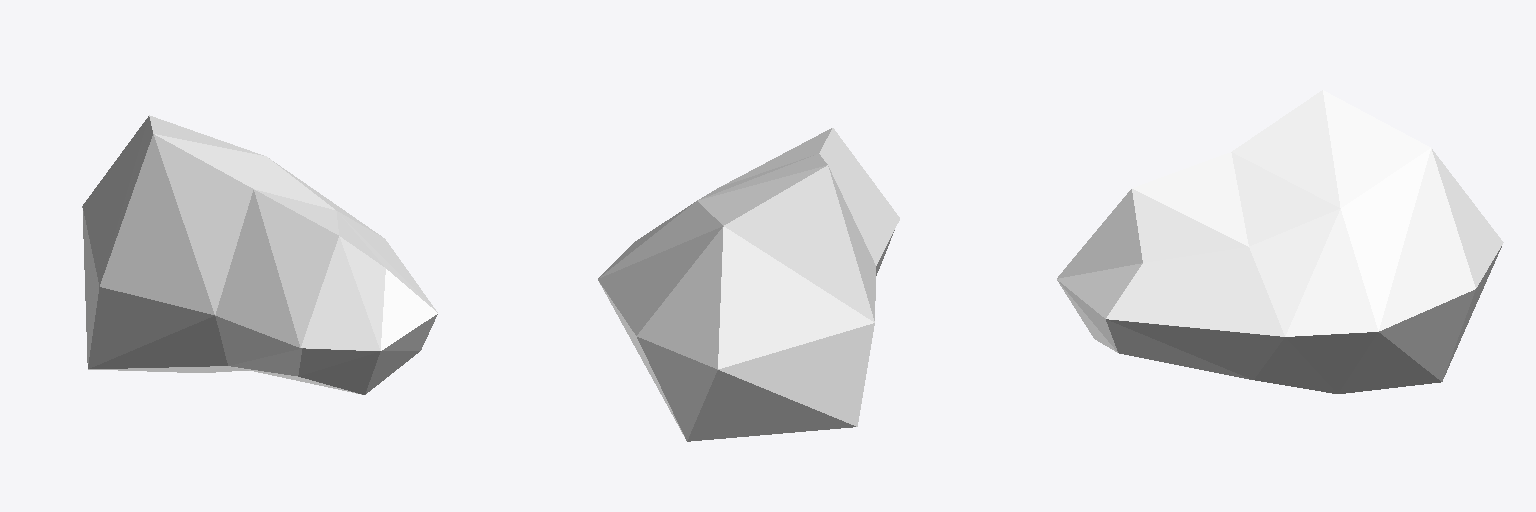
Rendered from Rock_02.obj.
3 views of the same model, side by side, from view 1: azimuth 30°, elevation 25°; view 2: azimuth 150°, elevation 25°; view 3: azimuth 270°, elevation 25° (orthographic).
Visible parts, largest first — view 1: world_expansion06_doodads_suramar_7sr_cragrock_a02.m2_Geoset_000; view 2: world_expansion06_doodads_suramar_7sr_cragrock_a02.m2_Geoset_000; view 3: world_expansion06_doodads_suramar_7sr_cragrock_a02.m2_Geoset_000.
Part boxes in pixels (x1,y1,x2,y2): world_expansion06_doodads_suramar_7sr_cragrock_a02.m2_Geoset_000: (82,115,437,394); world_expansion06_doodads_suramar_7sr_cragrock_a02.m2_Geoset_000: (598,128,899,441); world_expansion06_doodads_suramar_7sr_cragrock_a02.m2_Geoset_000: (1057,90,1503,393).
Bounding box in the file's own units: 6.38 × 5.86 × 9.39.